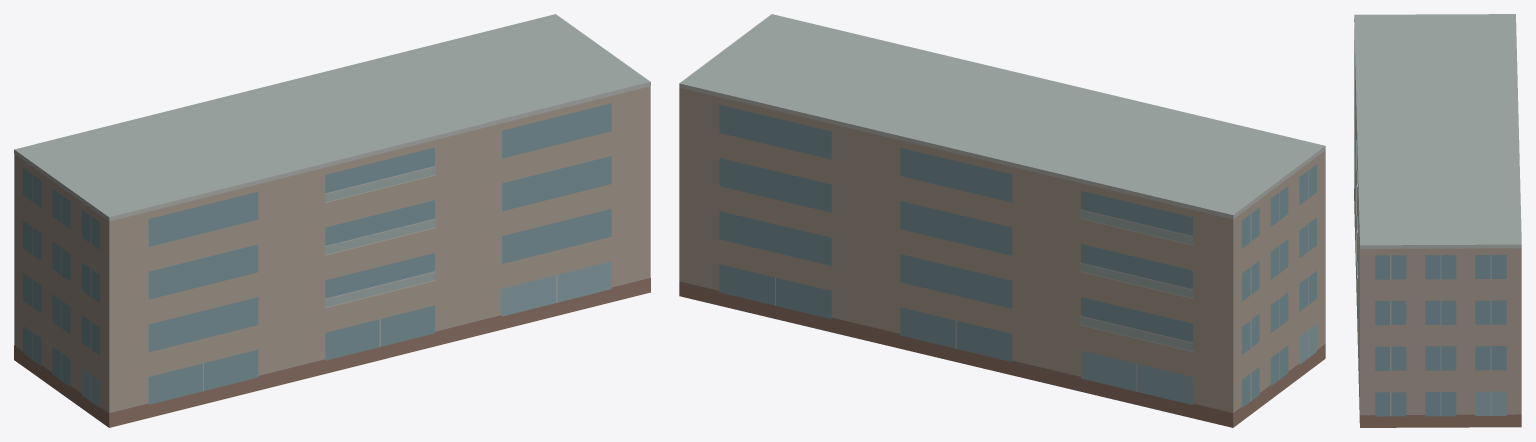
File: residential-6fdd7fa4-fe7d-4afa-b409-8eb32ab9deba.glb
The picture shows the model from 3 angles, left to right: view 1: azimuth 30°, elevation 25°; view 2: azimuth 150°, elevation 25°; view 3: azimuth 270°, elevation 25°; orthographic projection. The views are drawn at different scales.
Parts seen in each view (by area): view 1: residential-6fdd7fa4-fe7d-4afa-b409-8eb32ab9deba.tmp; view 2: residential-6fdd7fa4-fe7d-4afa-b409-8eb32ab9deba.tmp; view 3: residential-6fdd7fa4-fe7d-4afa-b409-8eb32ab9deba.tmp.
Part boxes in pixels (box(x1,y1,x2,y2)): residential-6fdd7fa4-fe7d-4afa-b409-8eb32ab9deba.tmp: box(14, 14, 650, 427); residential-6fdd7fa4-fe7d-4afa-b409-8eb32ab9deba.tmp: box(679, 14, 1325, 427); residential-6fdd7fa4-fe7d-4afa-b409-8eb32ab9deba.tmp: box(1354, 14, 1521, 427).
Bounding box in the file's own units: 33.16 × 12.2 × 10.16.
